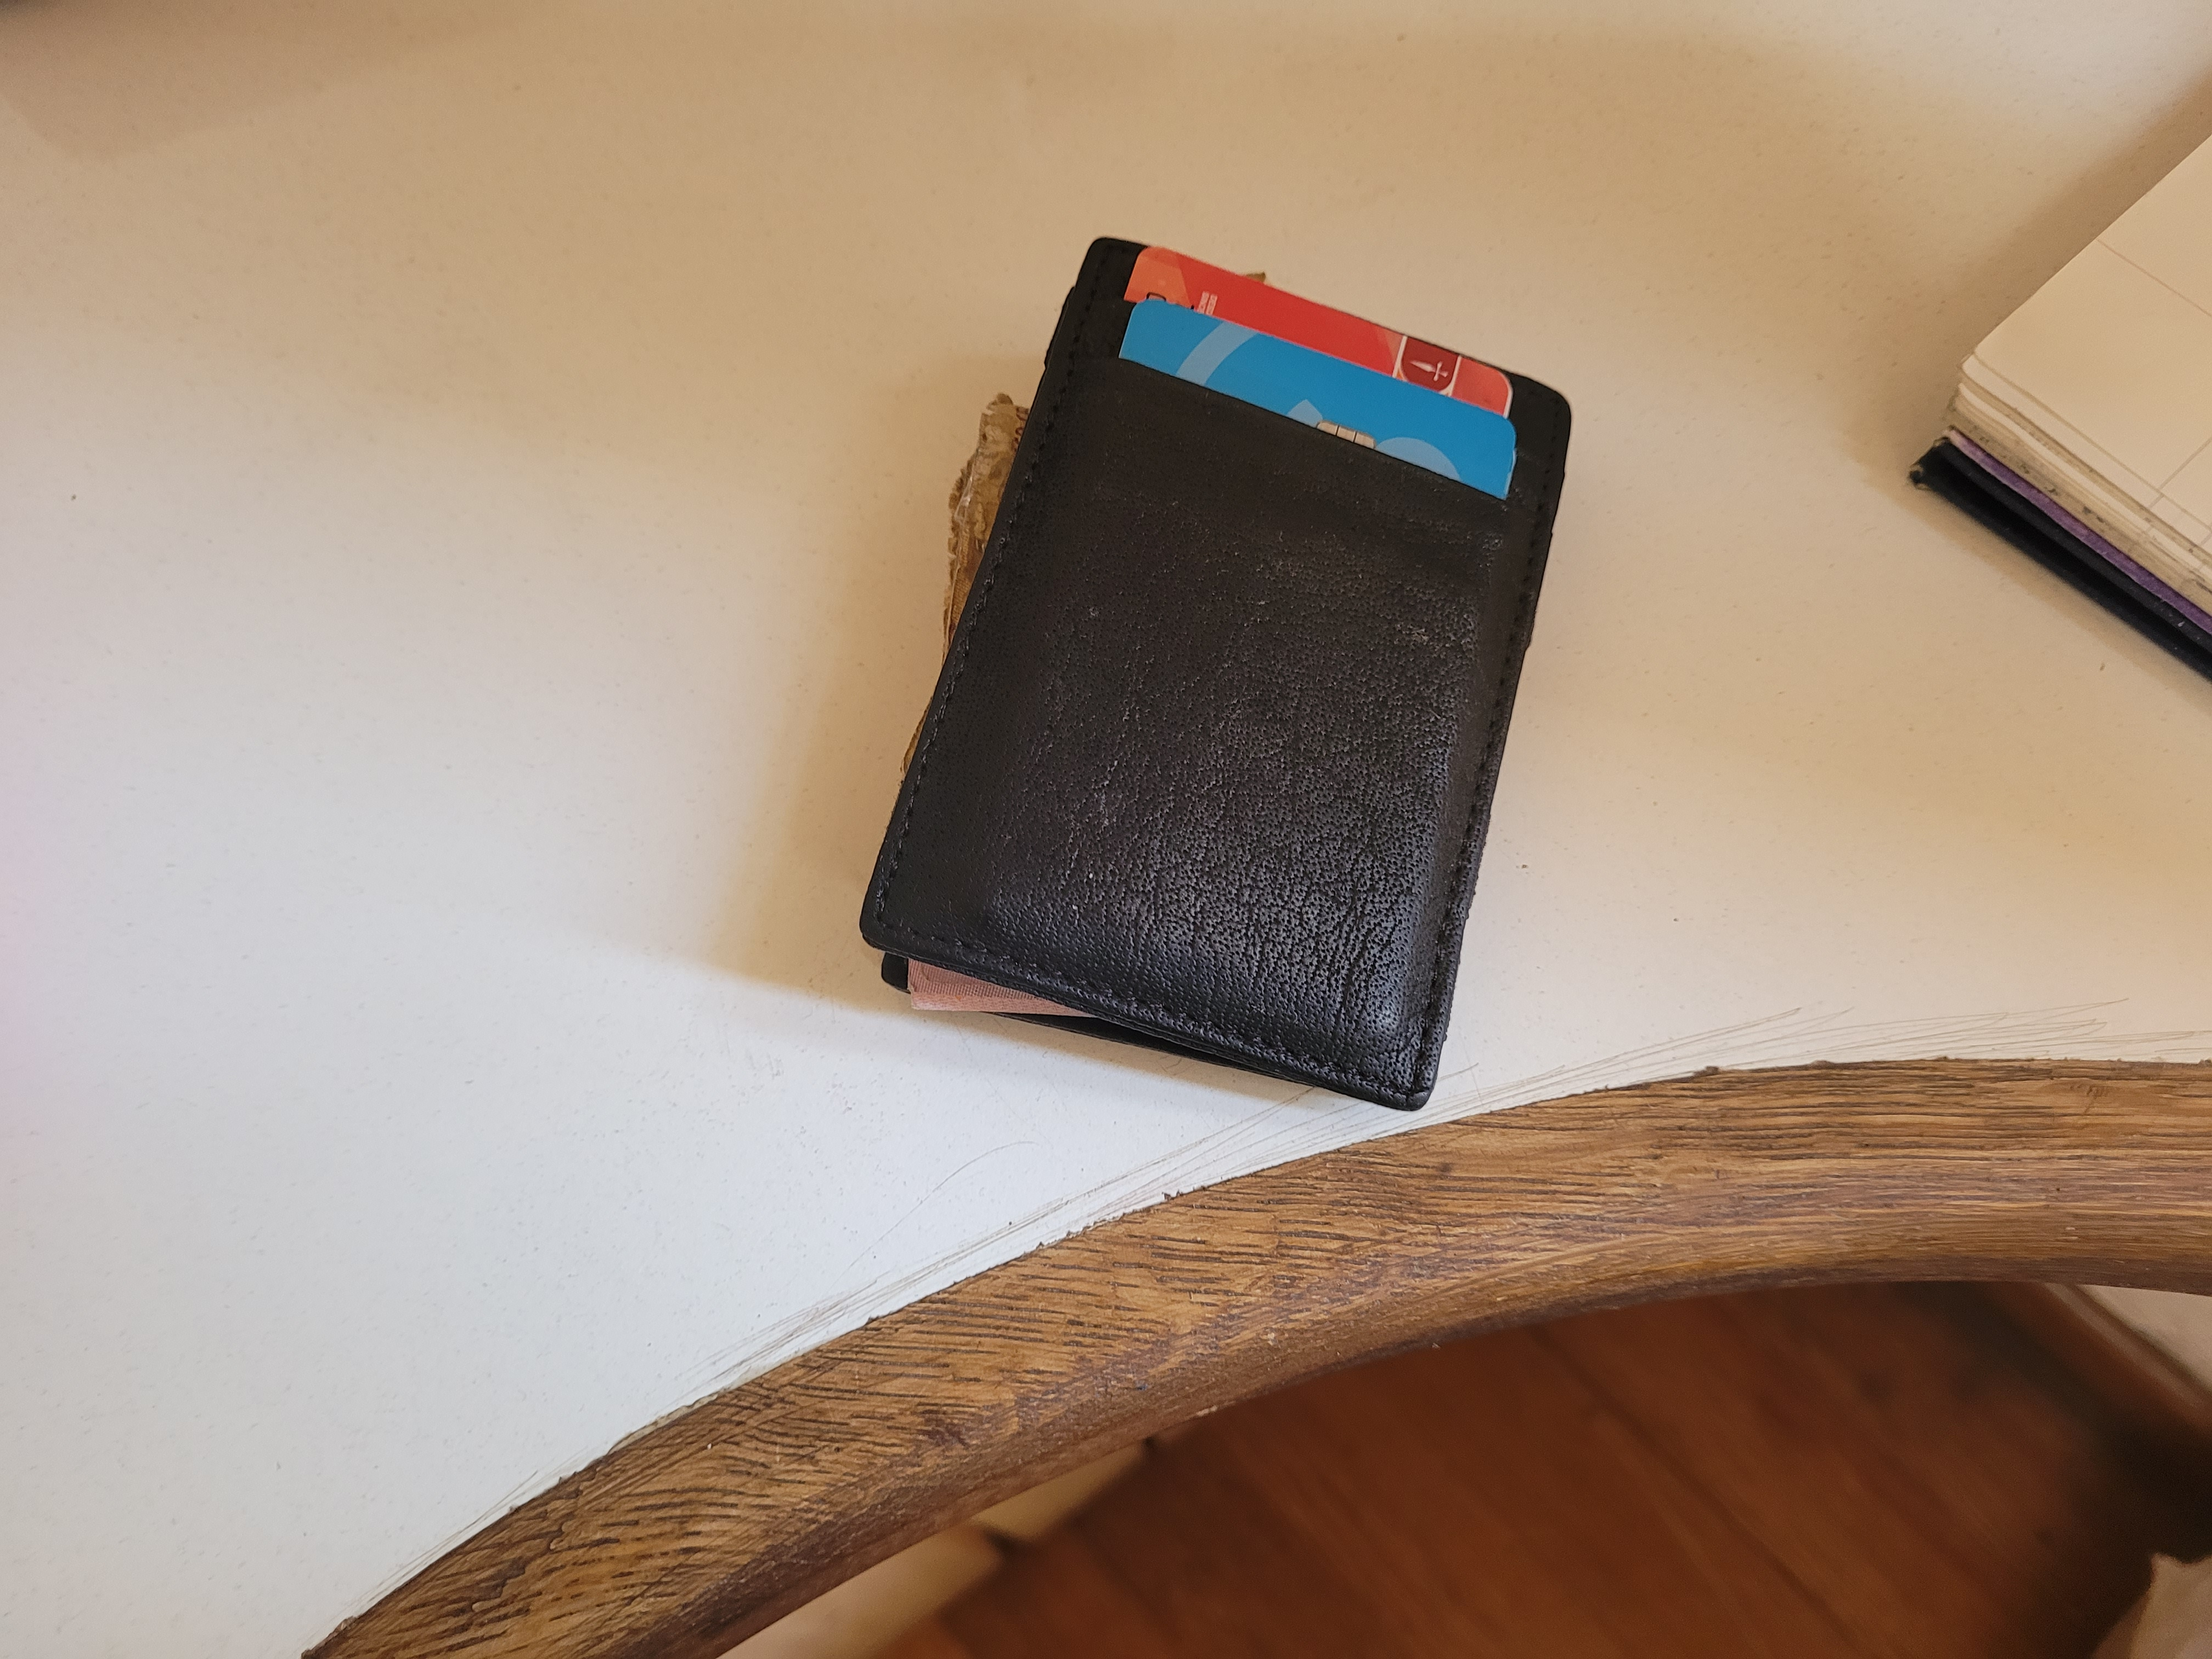billetera: (852, 228, 1578, 1121)
